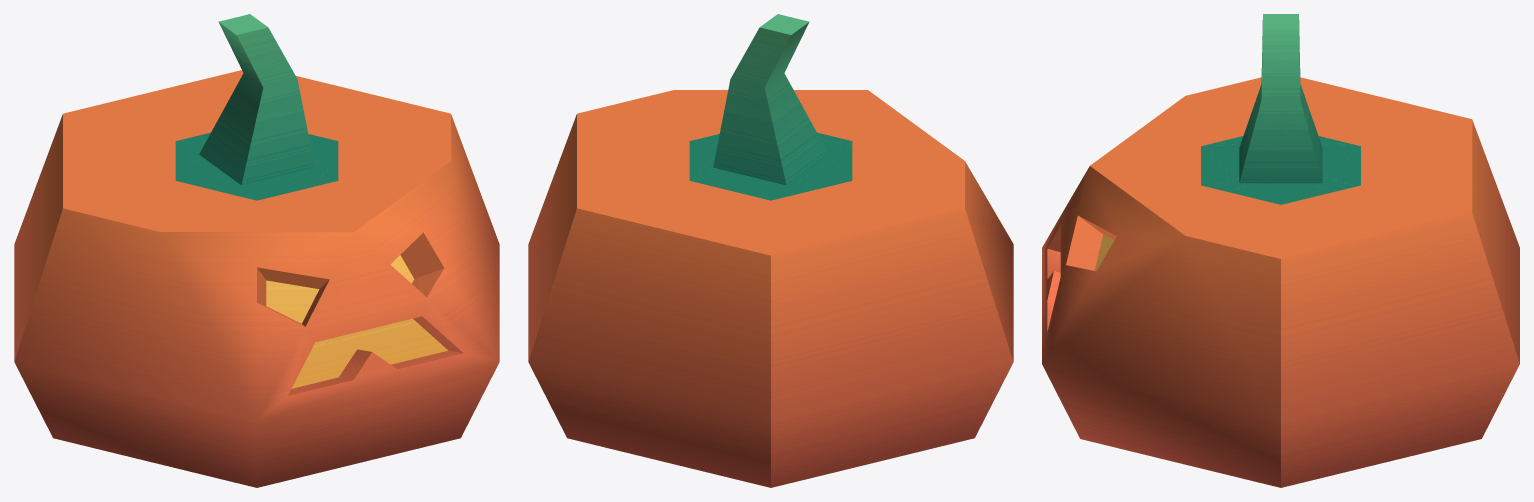
File: pumpkin.glb
3 renders of one model, left to right at view 1: azimuth 30°, elevation 25°; view 2: azimuth 150°, elevation 25°; view 3: azimuth 270°, elevation 25°, orthographic.
Visible parts, largest first — view 1: pumpkin-carved; view 2: pumpkin-carved; view 3: pumpkin-carved.
Part boxes in pixels (box(x1,y1,x2,y2)): pumpkin-carved: box(14, 14, 499, 487); pumpkin-carved: box(528, 14, 1013, 487); pumpkin-carved: box(1042, 14, 1519, 487).
Size of the model in its own units: 0.357 by 0.2583 by 0.3092.
Materials: 1 (1 with a texture image).
